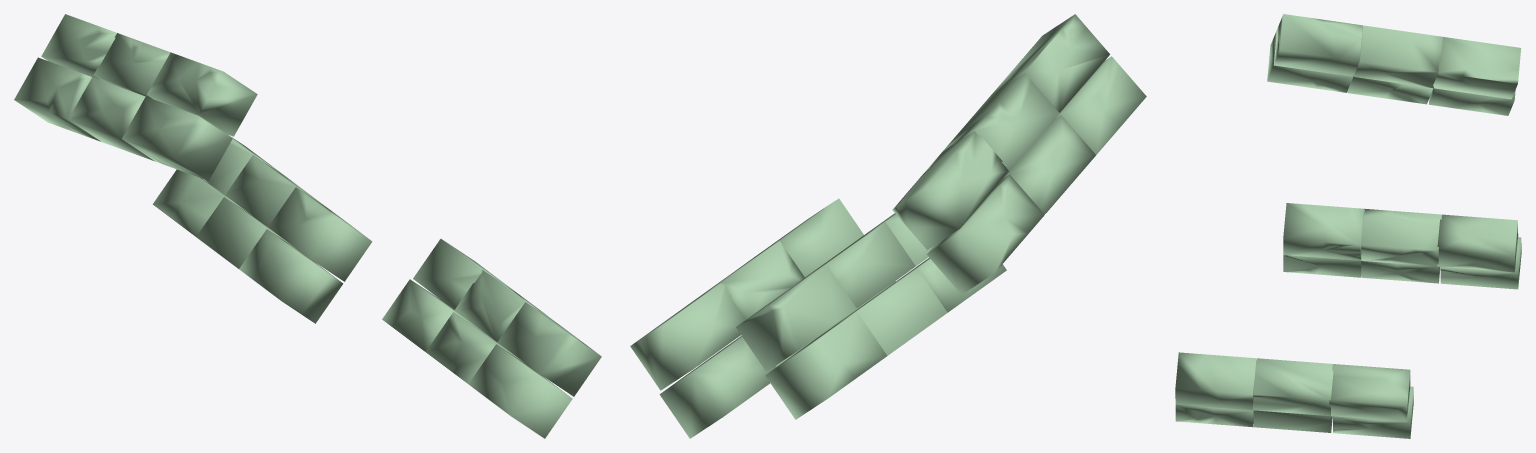
The model's file is VHF_Spleen_Extraction_Sites_2x3.fbx.
The picture shows the model from 3 angles, left to right: view 1: azimuth 30°, elevation 25°; view 2: azimuth 150°, elevation 25°; view 3: azimuth 270°, elevation 25°; orthographic projection. The views are drawn at different scales.
Visible parts, largest first — view 1: VHF_CC1_4_2x3, VHF_CC1_1_2x3, VHF_CC2_1_2x3, VHF_CC3_1_2x3, VHF_CC2_4_2x3, VHF_CC3_4_2x3, VHF_CC1_6_2x3, VHF_CC1_5_2x3, VHF_CC1_2_2x3, VHF_CC1_3_2x3, VHF_CC3_6_2x3, VHF_CC2_2_2x3 (+6 smaller); view 2: VHF_CC1_3_2x3, VHF_CC1_6_2x3, VHF_CC2_6_2x3, VHF_CC2_3_2x3, VHF_CC3_3_2x3, VHF_CC3_6_2x3, VHF_CC1_1_2x3, VHF_CC1_2_2x3, VHF_CC1_5_2x3, VHF_CC1_4_2x3, VHF_CC2_5_2x3, VHF_CC2_2_2x3 (+4 smaller); view 3: VHF_CC1_1_2x3, VHF_CC1_2_2x3, VHF_CC1_3_2x3, VHF_CC3_1_2x3, VHF_CC2_3_2x3, VHF_CC2_1_2x3, VHF_CC3_3_2x3, VHF_CC3_2_2x3, VHF_CC2_2_2x3, VHF_CC1_4_2x3, VHF_CC2_6_2x3, VHF_CC3_6_2x3 (+6 smaller).
Part boxes in pixels (bbox=[...]): VHF_CC1_4_2x3: bbox=[122, 97, 232, 180]; VHF_CC1_1_2x3: bbox=[147, 52, 257, 136]; VHF_CC2_1_2x3: bbox=[268, 187, 372, 281]; VHF_CC3_1_2x3: bbox=[497, 302, 601, 396]; VHF_CC2_4_2x3: bbox=[239, 229, 343, 323]; VHF_CC3_4_2x3: bbox=[468, 344, 572, 438]; VHF_CC1_6_2x3: bbox=[14, 57, 100, 141]; VHF_CC1_5_2x3: bbox=[68, 77, 154, 161]; VHF_CC1_2_2x3: bbox=[93, 33, 170, 98]; VHF_CC1_3_2x3: bbox=[41, 14, 116, 79]; VHF_CC3_6_2x3: bbox=[382, 279, 481, 351]; VHF_CC2_2_2x3: bbox=[225, 155, 326, 226]; VHF_CC1_3_2x3: bbox=[892, 131, 1009, 250]; VHF_CC1_6_2x3: bbox=[927, 174, 1044, 294]; VHF_CC2_6_2x3: bbox=[765, 311, 886, 419]; VHF_CC2_3_2x3: bbox=[736, 264, 856, 371]; VHF_CC3_3_2x3: bbox=[630, 283, 745, 390]; VHF_CC3_6_2x3: bbox=[659, 337, 776, 438]; VHF_CC1_1_2x3: bbox=[992, 14, 1109, 112]; VHF_CC1_2_2x3: bbox=[943, 73, 1059, 170]; VHF_CC1_5_2x3: bbox=[1004, 115, 1095, 214]; VHF_CC1_4_2x3: bbox=[1055, 56, 1146, 154]; VHF_CC2_5_2x3: bbox=[826, 268, 947, 355]; VHF_CC2_2_2x3: bbox=[798, 222, 915, 308]; VHF_CC1_1_2x3: bbox=[1273, 14, 1362, 76]; VHF_CC1_2_2x3: bbox=[1354, 25, 1442, 88]; VHF_CC1_3_2x3: bbox=[1433, 37, 1521, 99]; VHF_CC3_1_2x3: bbox=[1175, 352, 1256, 410]; VHF_CC2_3_2x3: bbox=[1437, 214, 1518, 272]; VHF_CC2_1_2x3: bbox=[1283, 203, 1363, 260]; VHF_CC3_3_2x3: bbox=[1329, 364, 1410, 421]; VHF_CC3_2_2x3: bbox=[1253, 358, 1333, 416]; VHF_CC2_2_2x3: bbox=[1361, 208, 1441, 266]; VHF_CC1_4_2x3: bbox=[1267, 30, 1352, 92]; VHF_CC2_6_2x3: bbox=[1440, 237, 1521, 289]; VHF_CC3_6_2x3: bbox=[1333, 386, 1413, 438].
Bounding box in the file's own units: 66 × 62.82 × 61.93.
